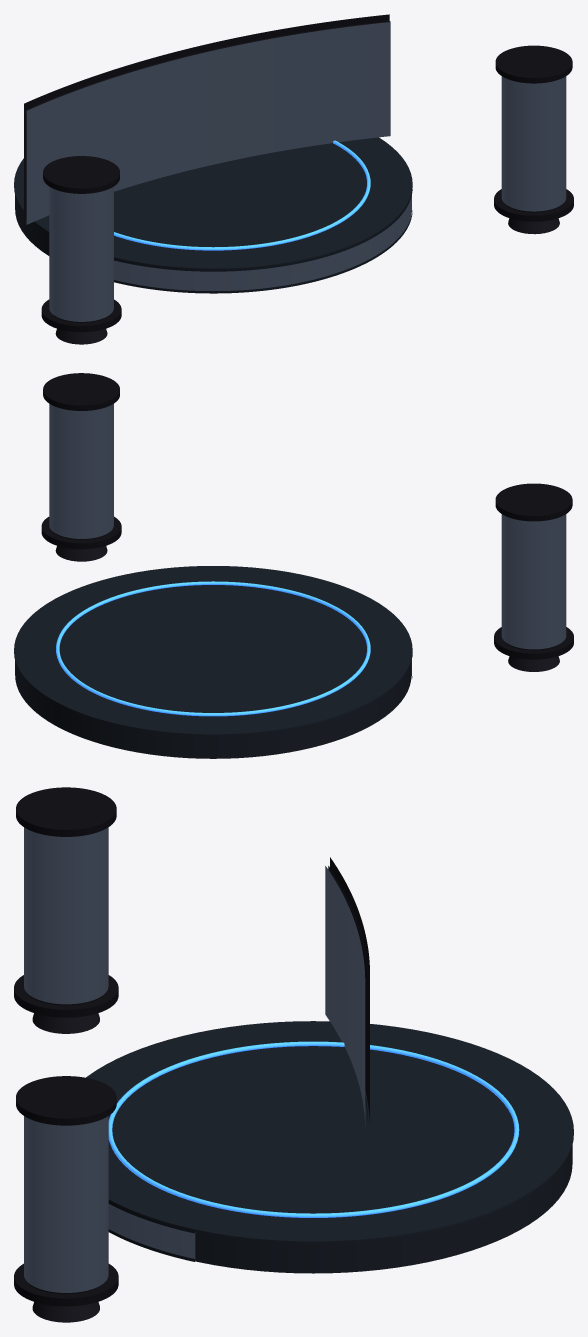
File: landing-venue.glb
3 renders of one model, top to bottom at view 1: azimuth 30°, elevation 25°; view 2: azimuth 150°, elevation 25°; view 3: azimuth 270°, elevation 25°, orthographic. The views are drawn at different scales.
Parts seen in each view (by area): view 1: Main_LED_Wall, Stage_Deck_Top, Side_LED_Right, Side_LED_Left, Stage_Front_LED, Main_LED_Bezel, Totem_Cap_Top_Right, Totem_Cap_Top_Left, Stage_Accent_Ring, Totem_Cap_Bottom_Left, Totem_Cap_Bottom_Right, Stage_Front_Trim_Bottom (+5 smaller); view 2: Stage_Deck_Top, Stage_Riser, Side_LED_Left, Side_LED_Right, Stage_Accent_Ring, Totem_Cap_Top_Left, Totem_Cap_Top_Right, Totem_Cap_Bottom_Right, Totem_Cap_Bottom_Left, Totem_Base_Left, Totem_Base_Right; view 3: Stage_Deck_Top, Side_LED_Left, Side_LED_Right, Stage_Riser, Main_LED_Wall, Stage_Accent_Ring, Totem_Cap_Top_Right, Totem_Cap_Top_Left, Stage_Front_LED, Totem_Cap_Bottom_Left, Totem_Cap_Bottom_Right, Main_LED_Bezel (+2 smaller).
Boxes of the visible parts, left/top/right/bottom form: Main_LED_Wall: left=26, top=22, right=390, bottom=224; Stage_Deck_Top: left=14, top=137, right=412, bottom=269; Side_LED_Right: left=501, top=76, right=566, bottom=211; Side_LED_Left: left=49, top=186, right=113, bottom=321; Stage_Front_LED: left=114, top=195, right=411, bottom=291; Main_LED_Bezel: left=24, top=14, right=389, bottom=223; Totem_Cap_Top_Right: left=495, top=45, right=572, bottom=83; Totem_Cap_Top_Left: left=43, top=156, right=119, bottom=193; Stage_Accent_Ring: left=114, top=140, right=370, bottom=250; Totem_Cap_Bottom_Left: left=41, top=299, right=121, bottom=332; Totem_Cap_Bottom_Right: left=494, top=189, right=573, bottom=221; Stage_Front_Trim_Bottom: left=114, top=210, right=412, bottom=293; Stage_Deck_Top: left=14, top=566, right=412, bottom=735; Stage_Riser: left=15, top=660, right=411, bottom=758; Side_LED_Left: left=501, top=514, right=566, bottom=649; Side_LED_Right: left=49, top=404, right=113, bottom=538; Stage_Accent_Ring: left=56, top=581, right=370, bottom=716; Totem_Cap_Top_Left: left=495, top=483, right=572, bottom=521; Totem_Cap_Top_Right: left=43, top=373, right=119, bottom=410; Totem_Cap_Bottom_Right: left=41, top=516, right=121, bottom=549; Totem_Cap_Bottom_Left: left=494, top=627, right=573, bottom=659; Totem_Base_Left: left=508, top=656, right=559, bottom=671; Totem_Base_Right: left=55, top=546, right=107, bottom=561; Stage_Deck_Top: left=86, top=1021, right=573, bottom=1243; Side_LED_Left: left=24, top=827, right=108, bottom=1004; Side_LED_Right: left=24, top=1116, right=108, bottom=1292; Stage_Riser: left=195, top=1145, right=572, bottom=1273; Main_LED_Wall: left=325, top=866, right=365, bottom=1126; Stage_Accent_Ring: left=108, top=1041, right=519, bottom=1217; Totem_Cap_Top_Right: left=16, top=1076, right=116, bottom=1125; Totem_Cap_Top_Left: left=16, top=787, right=116, bottom=836; Stage_Front_LED: left=108, top=1204, right=195, bottom=1261; Totem_Cap_Bottom_Left: left=14, top=975, right=118, bottom=1017; Totem_Cap_Bottom_Right: left=14, top=1263, right=118, bottom=1306; Main_LED_Bezel: left=330, top=857, right=369, bottom=1121.
Size of what is drawn, in the model's own units: 16.26 by 4.81 by 11.56.
